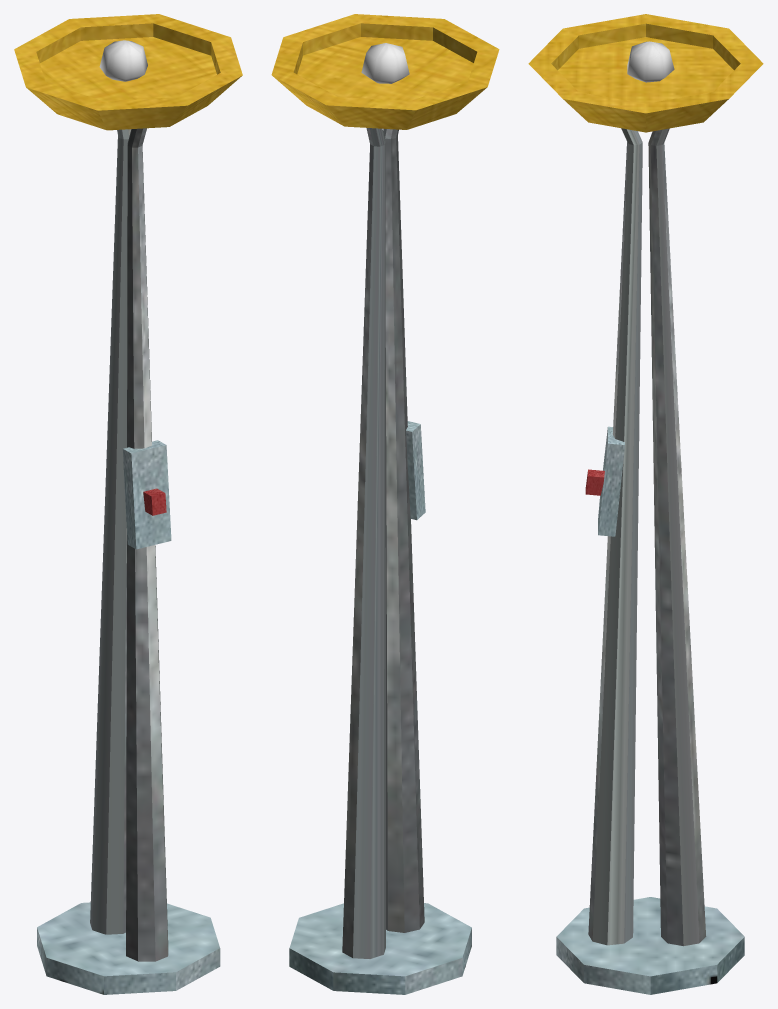
File: lamp.FBX
3 renders of one model, left to right at view 1: azimuth 30°, elevation 25°; view 2: azimuth 150°, elevation 25°; view 3: azimuth 270°, elevation 25°, orthographic.
Parts seen in each view (by area): view 1: Object001, Cylinder002, Cylinder001, Box001, Sphere001, Object003; view 2: Object001, Cylinder002, Cylinder001, Sphere001, Box001; view 3: Object001, Cylinder002, Cylinder001, Box001, Sphere001.
Part boxes in pixels (bbox=[...]): Object001: bbox=[90, 128, 168, 961]; Cylinder002: bbox=[14, 14, 242, 130]; Cylinder001: bbox=[37, 902, 220, 994]; Box001: bbox=[122, 440, 171, 549]; Sphere001: bbox=[99, 40, 147, 81]; Object003: bbox=[143, 488, 166, 515]; Object001: bbox=[342, 128, 424, 958]; Cylinder002: bbox=[271, 14, 499, 129]; Cylinder001: bbox=[289, 903, 471, 994]; Sphere001: bbox=[361, 43, 409, 83]; Box001: bbox=[406, 421, 425, 520]; Object001: bbox=[588, 128, 706, 946]; Cylinder002: bbox=[528, 14, 763, 132]; Cylinder001: bbox=[556, 897, 744, 994]; Box001: bbox=[598, 426, 624, 536]; Sphere001: bbox=[627, 41, 674, 82].
Size of the model in its own units: 63.63 by 272 by 63.63.
Materials: 5 (5 with a texture image).
